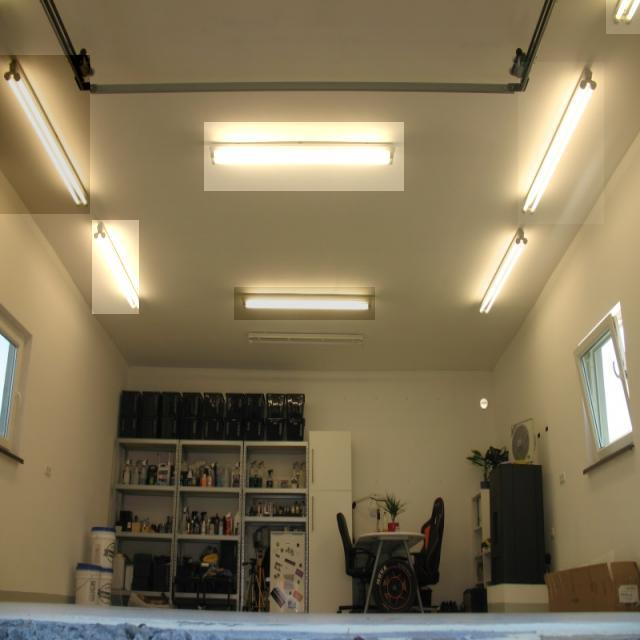fan: (510, 416, 537, 464)
light: (205, 123, 404, 192), (3, 57, 89, 206), (521, 65, 596, 214), (91, 219, 140, 315), (478, 227, 527, 314), (237, 289, 374, 320)
